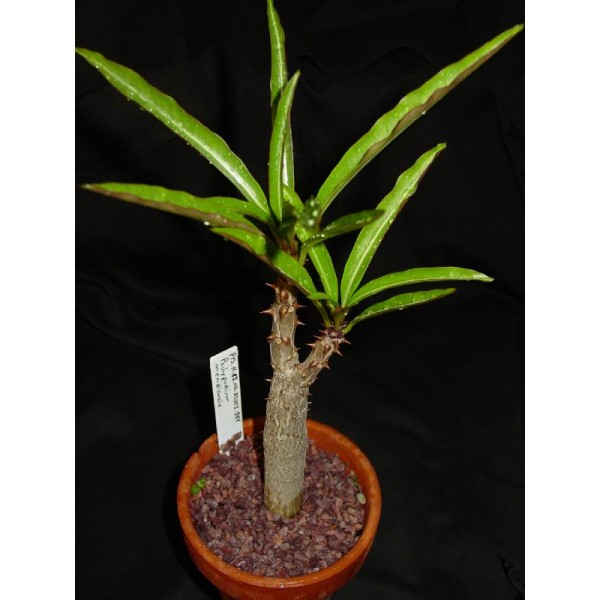Pachypodium meridionale: (217, 112, 379, 529)
